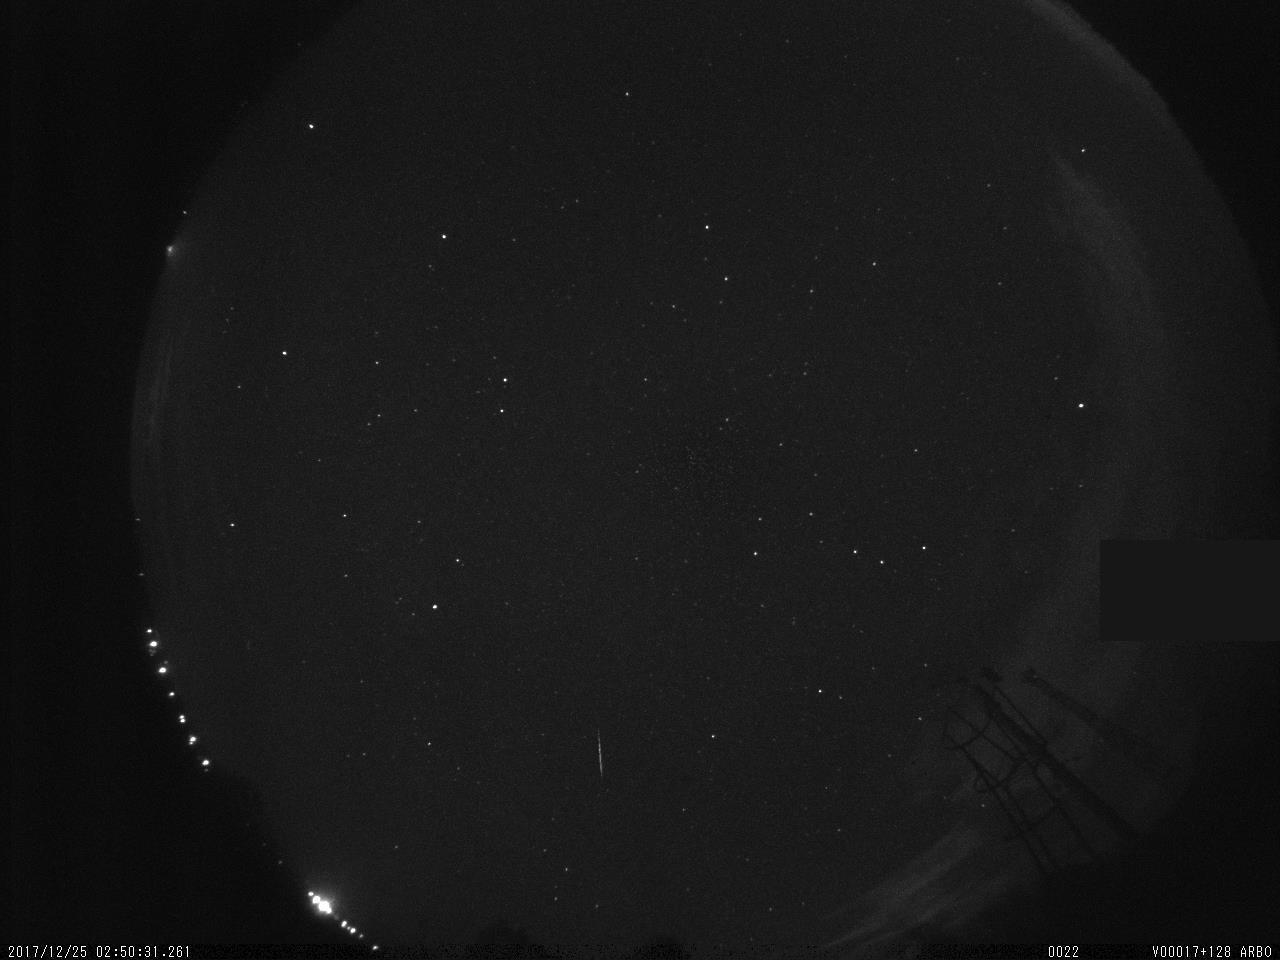meteor: (592, 729, 611, 784)
